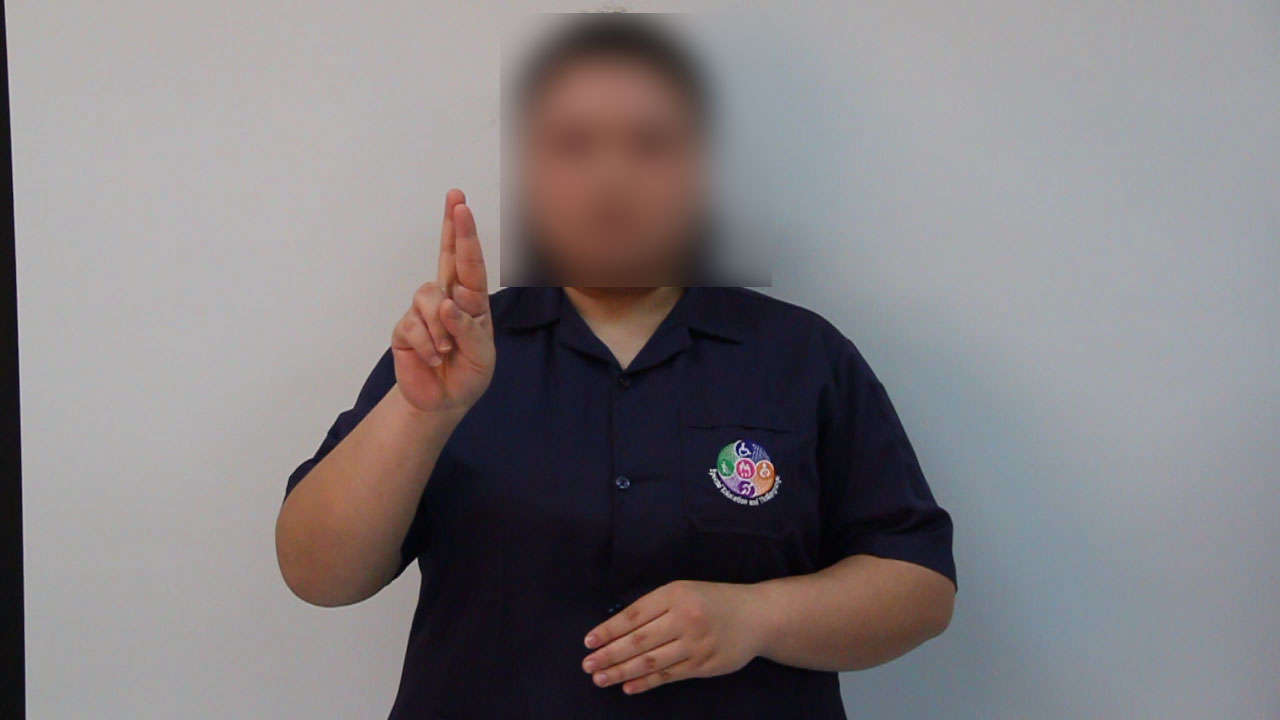rao: (354, 182, 503, 412)
